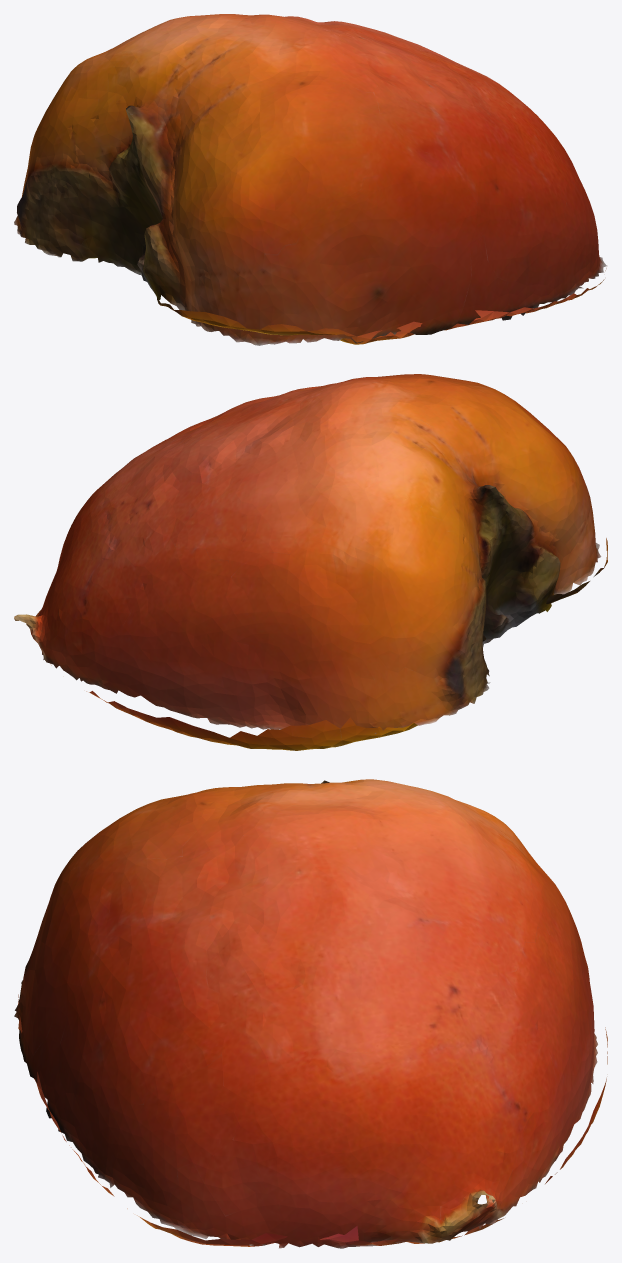
File: cakiTOP.gltf
3 renders of one model, top to bottom at view 1: azimuth 30°, elevation 25°; view 2: azimuth 150°, elevation 25°; view 3: azimuth 270°, elevation 25°, orthographic. The views are drawn at different scales.
Visible parts, largest first — view 1: Mesh_0.008; view 2: Mesh_0.008; view 3: Mesh_0.008.
Boxes of the visible parts, x1,y1,x2,y2 form: Mesh_0.008: [14, 14, 606, 345]; Mesh_0.008: [14, 374, 607, 750]; Mesh_0.008: [14, 779, 607, 1248].
Bounding box in the file's own units: 0.4362 × 0.2404 × 0.4333.
Materials: 2 (2 with a texture image).
